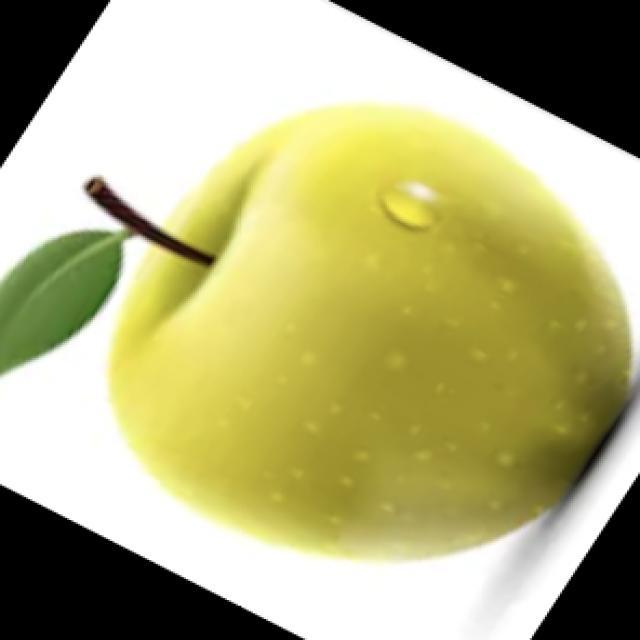Fresh Apple: (83, 113, 640, 538)
